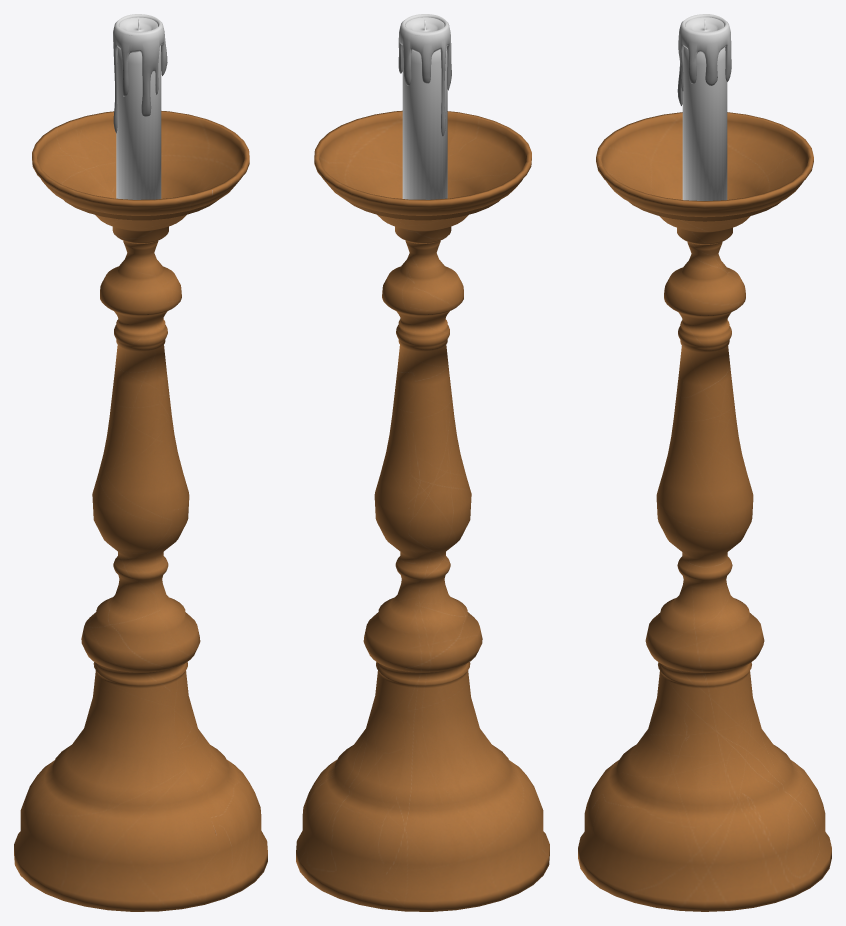
File: torch.fbx
3 renders of one model, left to right at view 1: azimuth 30°, elevation 25°; view 2: azimuth 150°, elevation 25°; view 3: azimuth 270°, elevation 25°, orthographic.
Visible parts, largest first — view 1: candle, torch, was_torch; view 2: candle, torch, was_torch; view 3: candle, torch, was_torch.
Boxes of the visible parts, x1,y1,x2,y2 form: candle: (14, 111, 267, 911); torch: (116, 17, 161, 199); was_torch: (113, 14, 167, 133); candle: (296, 110, 549, 911); torch: (402, 17, 447, 199); was_torch: (398, 14, 451, 136); candle: (578, 112, 831, 911); torch: (682, 17, 727, 200); was_torch: (677, 14, 731, 105).
Bounding box in the file's own units: 121 × 439 × 121.
Materials: 3 (3 with a texture image).
